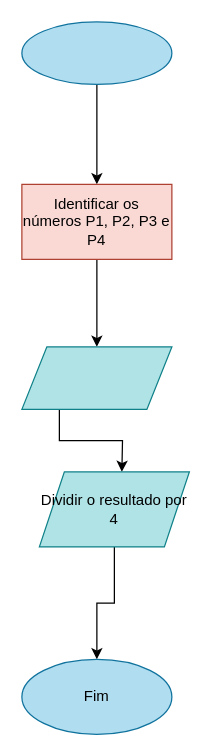
The diagram is 211 pixels wide and 756 high, and some of its shapes have lost their labels. The shapes that lost their labels are listed below. From the top down, each one's centre as x and y in pixels, then its label:
[96,52]: Início
[96,377]: Somar P1, P2, P3 e P4
